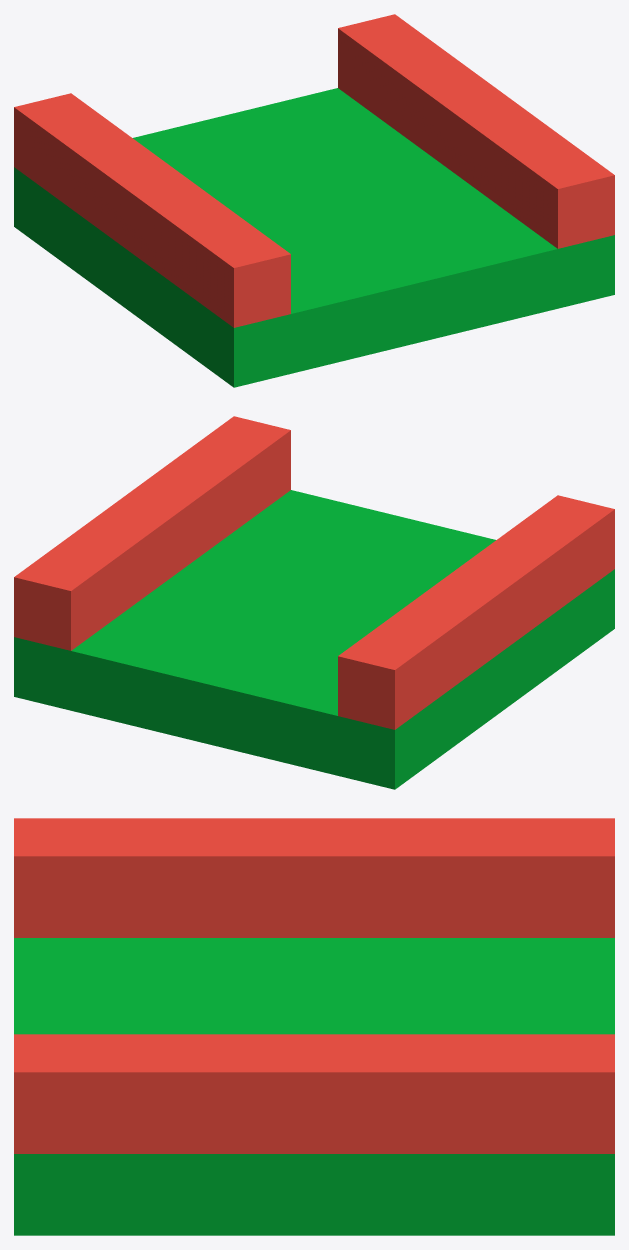
File: straight_double.fbx
The picture shows the model from 3 angles, top to bottom: view 1: azimuth 30°, elevation 25°; view 2: azimuth 150°, elevation 25°; view 3: azimuth 270°, elevation 25°; orthographic projection. The views are drawn at different scales.
Visible parts, largest first — view 1: green_straight_single_edge, Cube, Cube.002; view 2: green_straight_single_edge, Cube, Cube.002; view 3: green_straight_single_edge, Cube, Cube.002.
Part boxes in pixels (left/top/right/bottom): green_straight_single_edge: left=14, top=88, right=614, bottom=387; Cube: left=14, top=93, right=290, bottom=327; Cube.002: left=338, top=14, right=614, bottom=248; green_straight_single_edge: left=14, top=490, right=614, bottom=789; Cube: left=338, top=495, right=614, bottom=729; Cube.002: left=14, top=416, right=290, bottom=650; green_straight_single_edge: left=14, top=938, right=614, bottom=1235; Cube: left=14, top=818, right=614, bottom=937; Cube.002: left=14, top=1034, right=614, bottom=1153.
Size of the model in its own units: 200 by 60 by 200.
